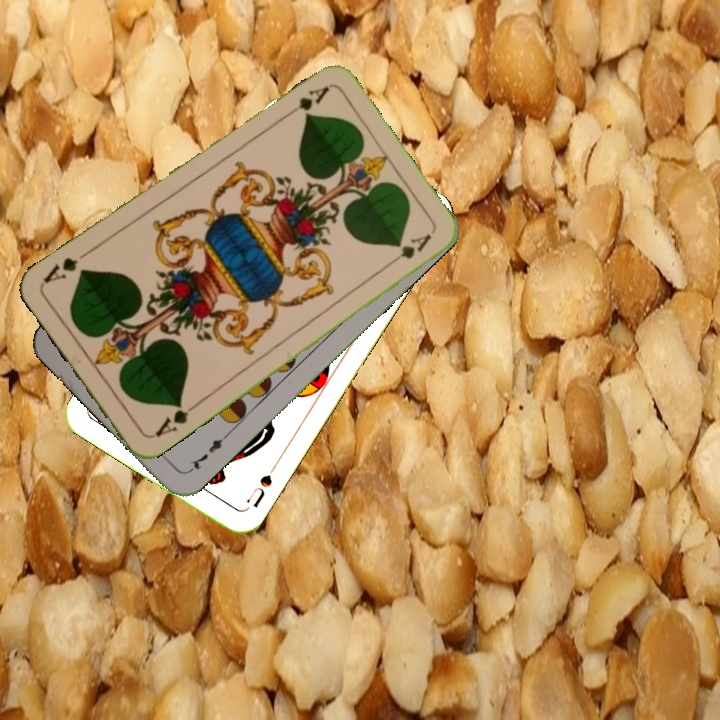E7: (184, 430, 231, 476)
GA: (148, 398, 200, 440), (279, 81, 332, 121)
SU: (241, 460, 280, 512)
